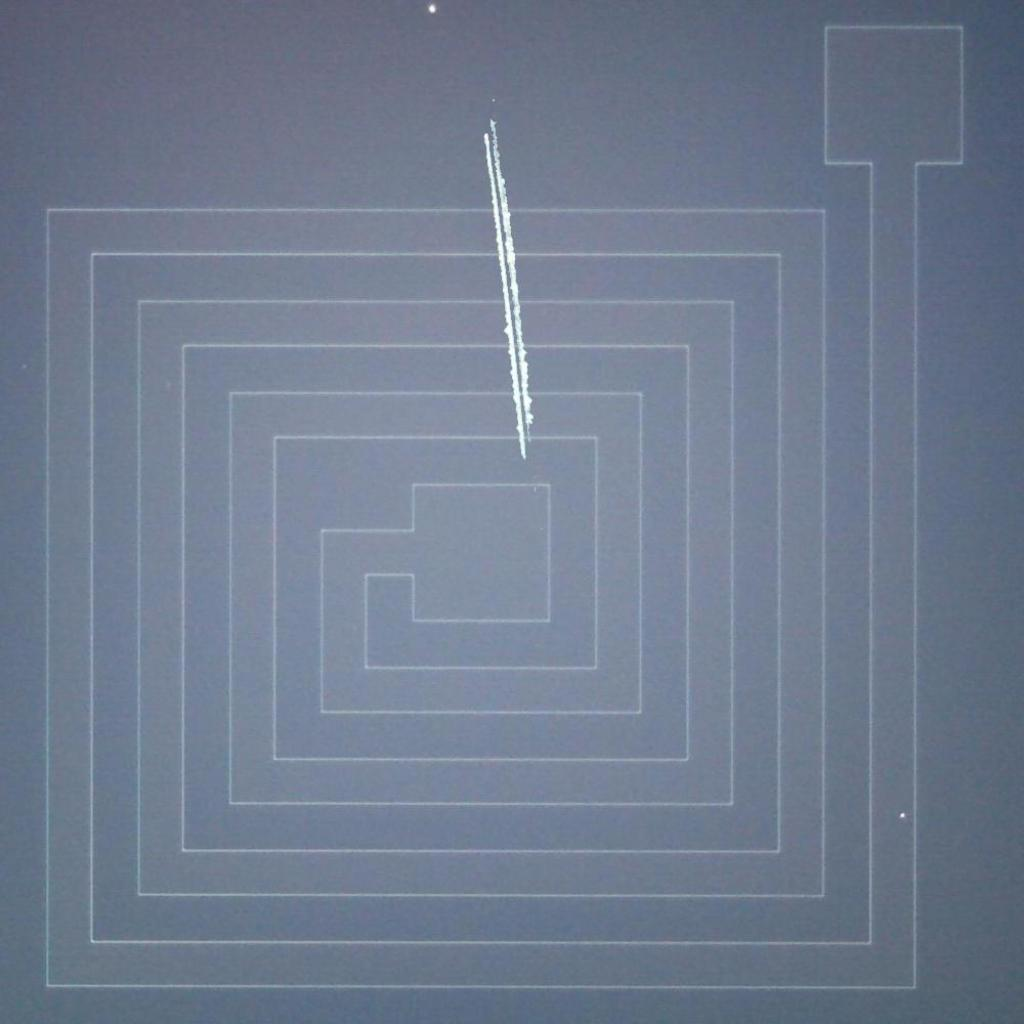dot: (890, 800, 913, 831), (416, 0, 440, 23)
scratch: (472, 114, 544, 462)
